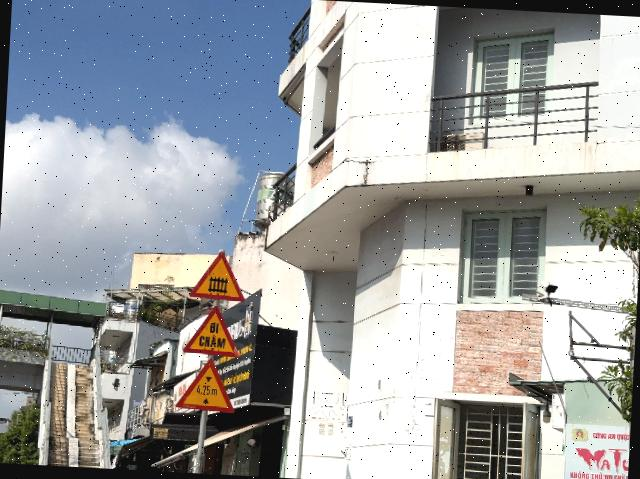chieu-cao-tinh-khong-thuc-te: (175, 356, 238, 414)
di-cham: (183, 304, 242, 358)
noi-giao-nhau-voi-duong-sat-co-rao-chan: (189, 249, 248, 302)
